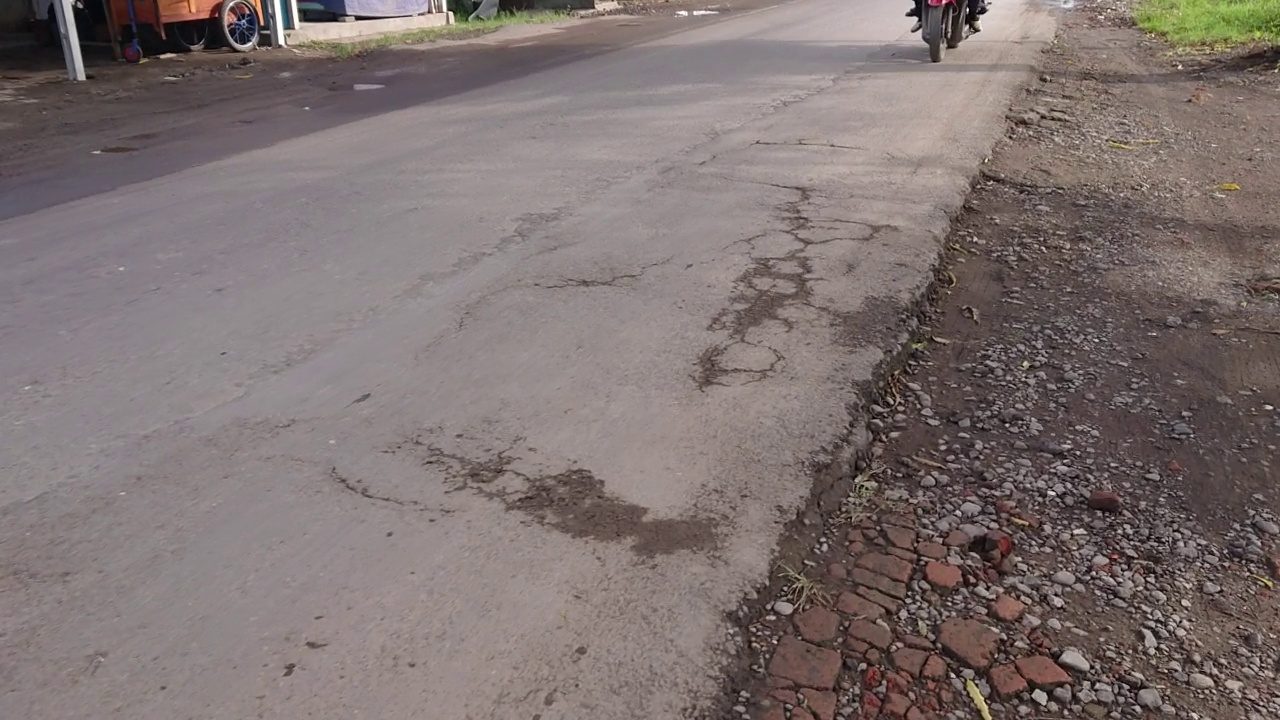Retak: (372, 432, 658, 546), (688, 186, 822, 417), (770, 76, 854, 141)
